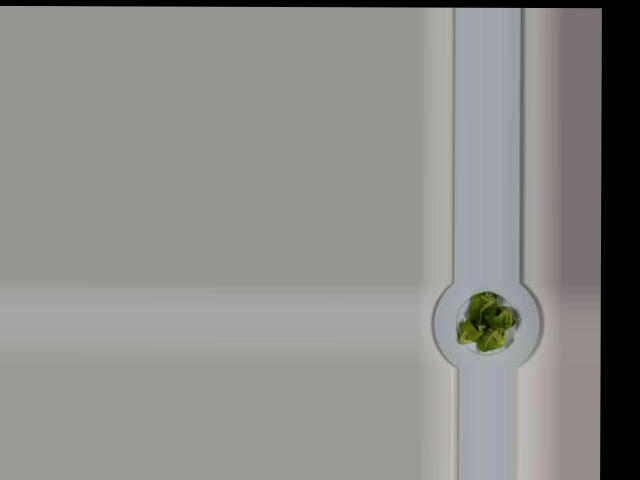lettuce: (456, 286, 517, 350)
